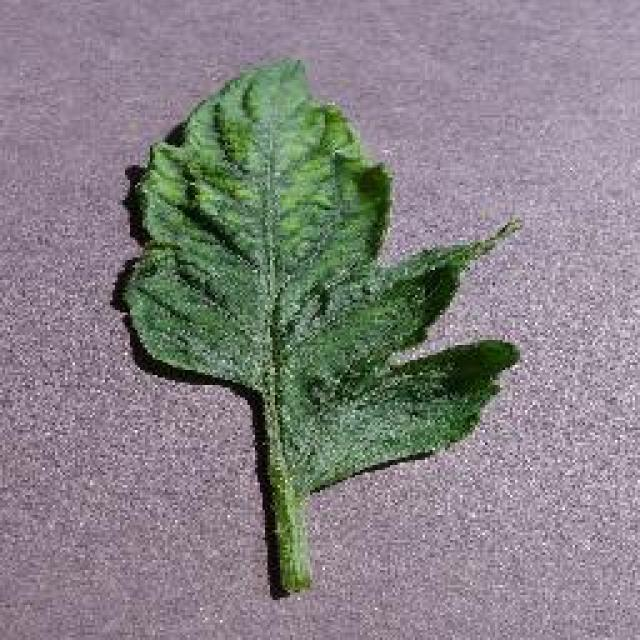Tomato spider mites leaf: (119, 55, 526, 495)
